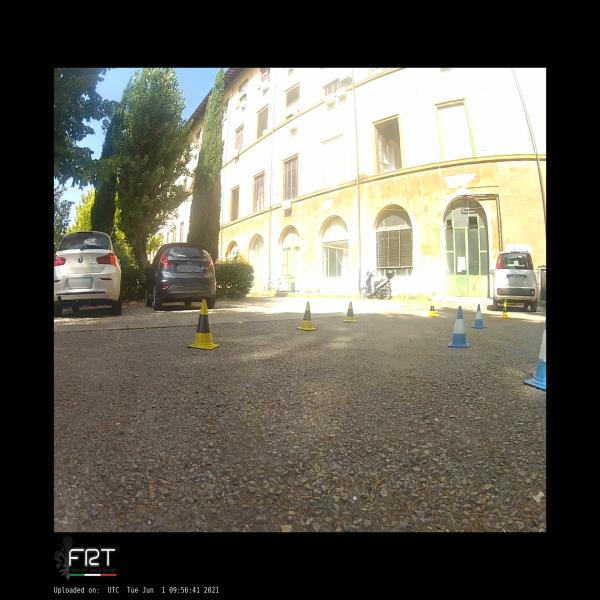blue_cone: (522, 316, 546, 391), (448, 306, 469, 348), (470, 303, 487, 328)
yellow_cone: (187, 298, 220, 350), (297, 301, 317, 330), (342, 301, 358, 323), (501, 301, 510, 319), (428, 300, 437, 317)
